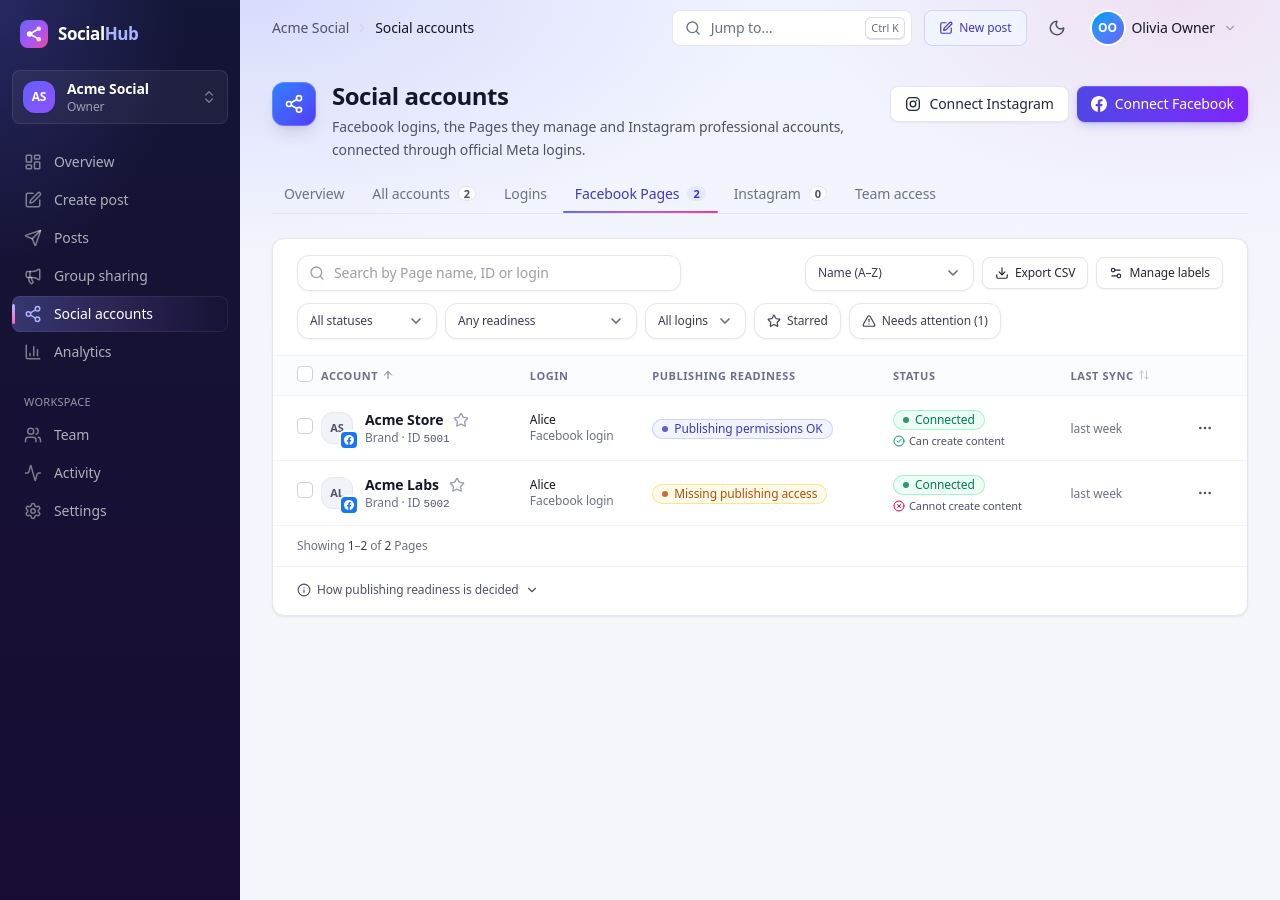
Facebook Pages tab › removes the selected Pages only after confirmation
The image size is (1280, 900).
Click the checkbox named "Select all accounts on this page" at x=305, y=374, box top-left (297, 366), bottom-right (313, 382)
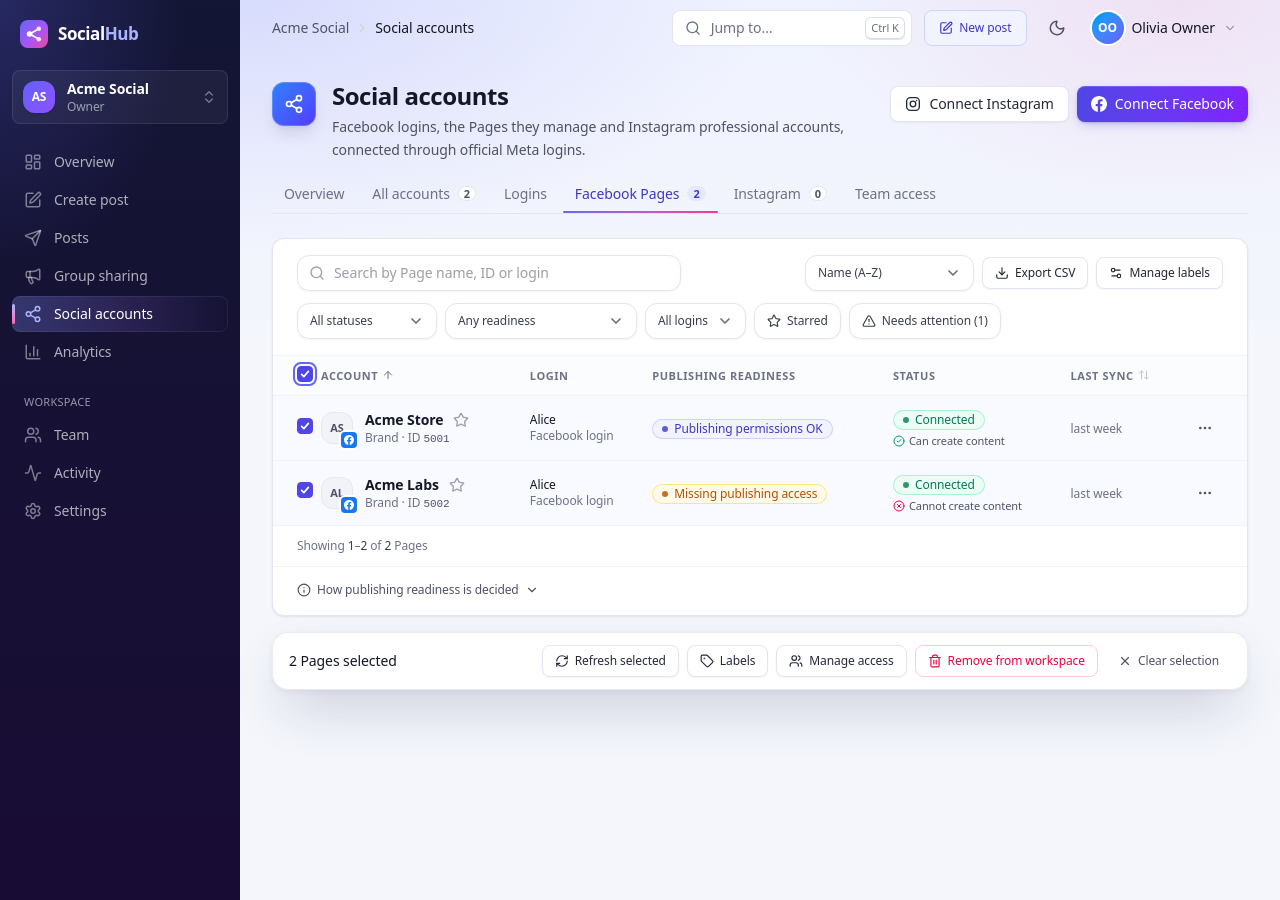
Click the button "Remove from workspace" at x=1006, y=661, box top-left (915, 645), bottom-right (1098, 677)
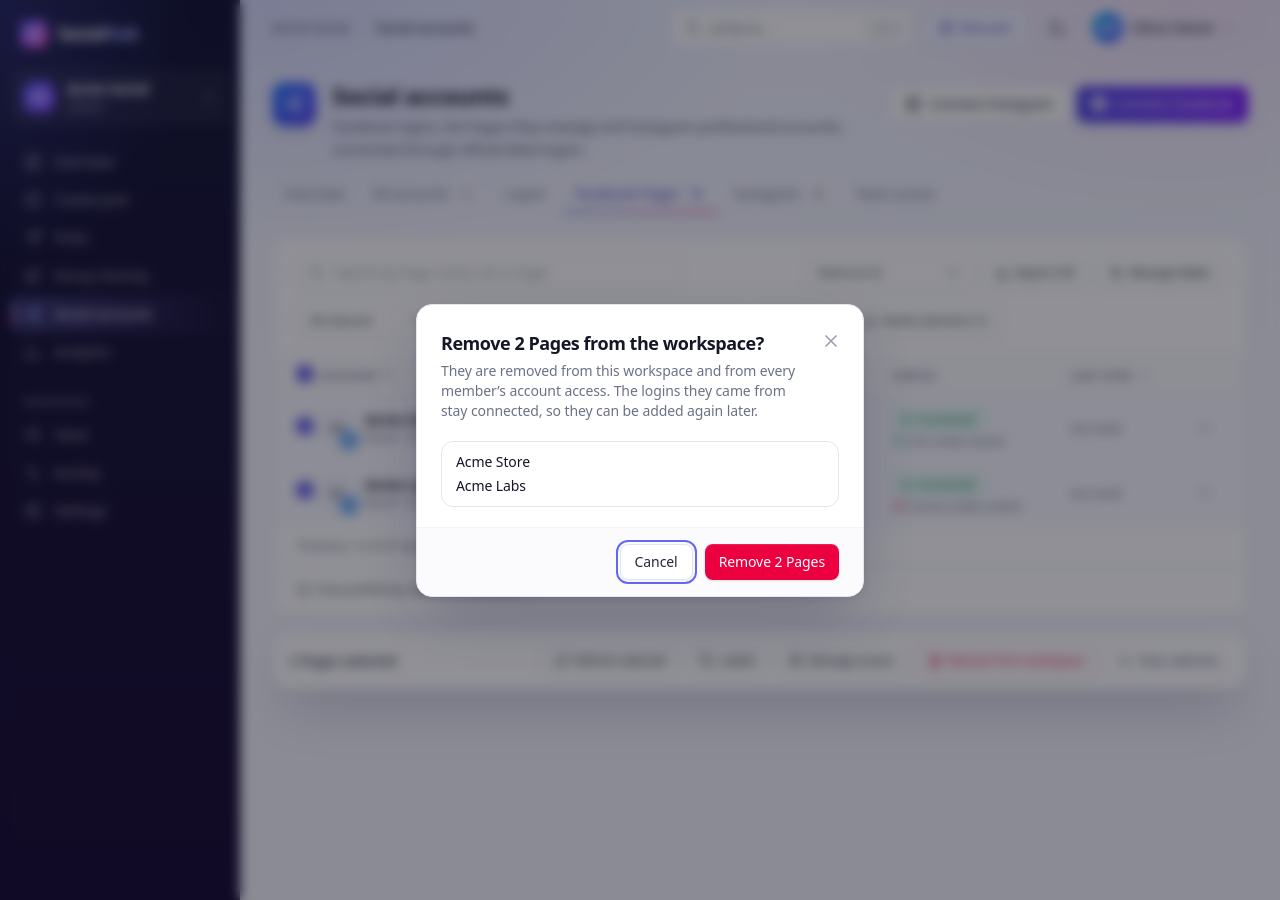
Check: the list item "Acme Store" is shown, box top-left (456, 452), bottom-right (530, 470)
Check: the list item "Acme Labs" is shown, box top-left (456, 476), bottom-right (526, 494)
Click the button "Cancel" at x=656, y=562, box top-left (620, 544), bottom-right (693, 580)
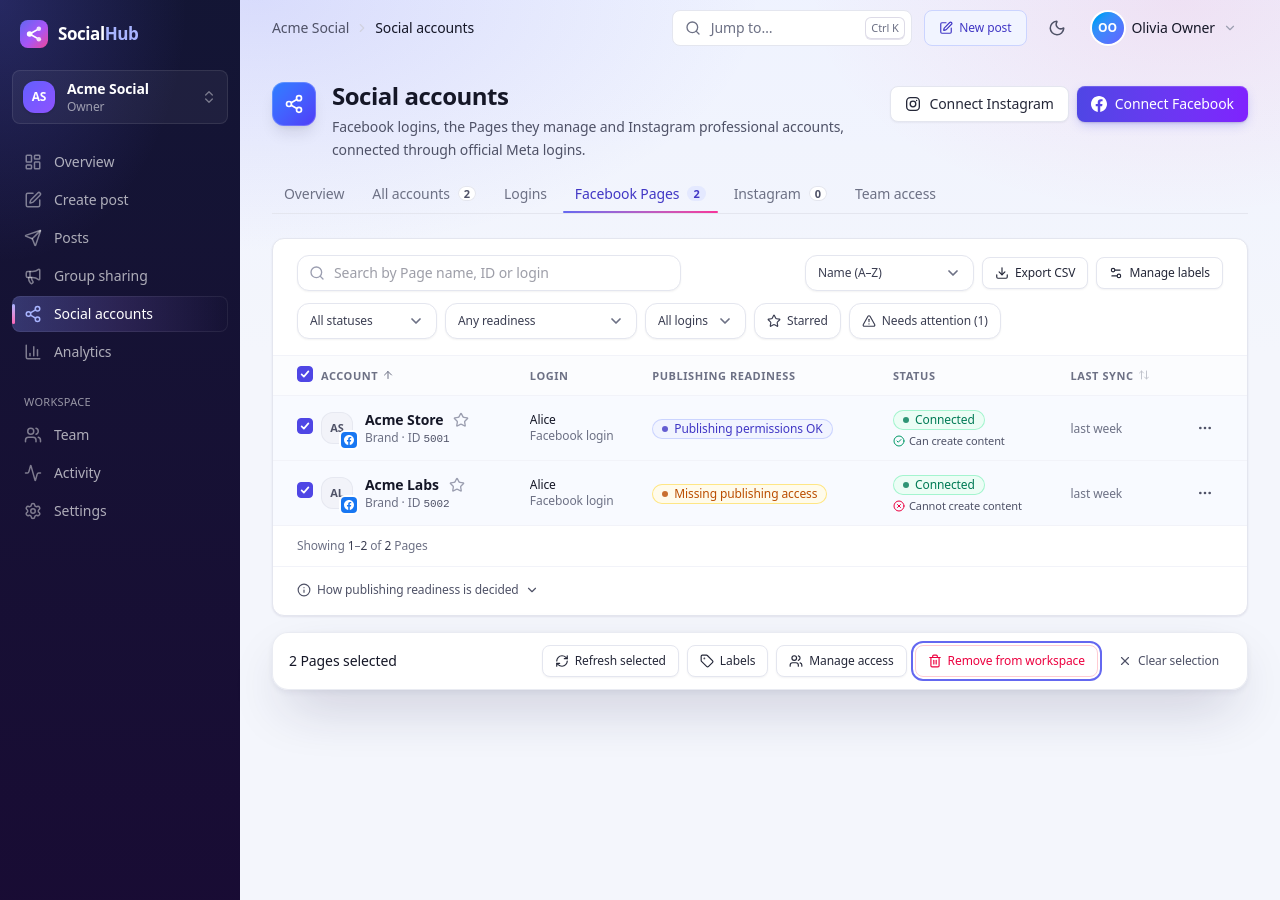
Check: the dialog is gone
Click the button "Remove from workspace" at x=1006, y=661, box top-left (915, 645), bottom-right (1098, 677)
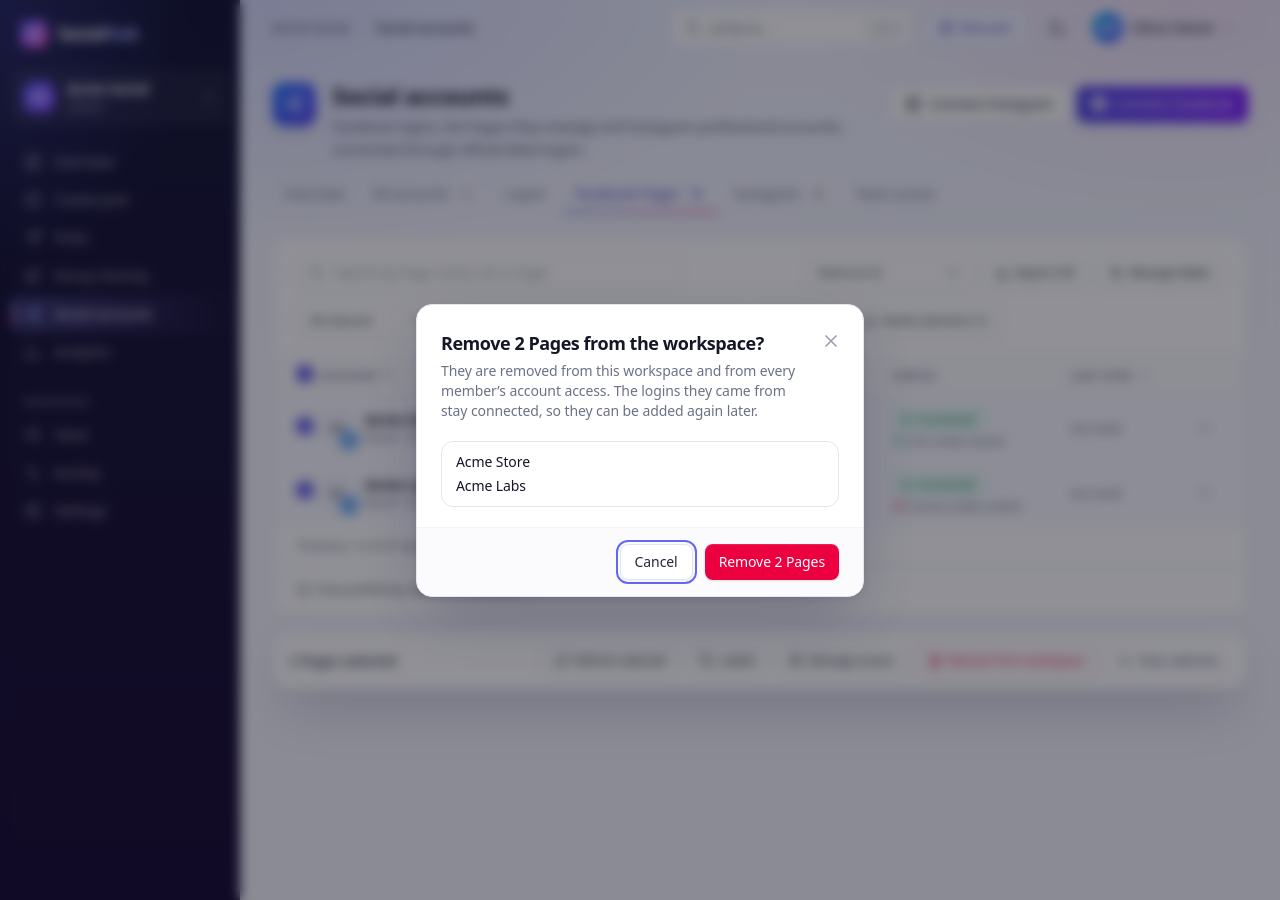
Click the button "Remove 2 Pages" at x=772, y=562, box top-left (705, 544), bottom-right (839, 580)
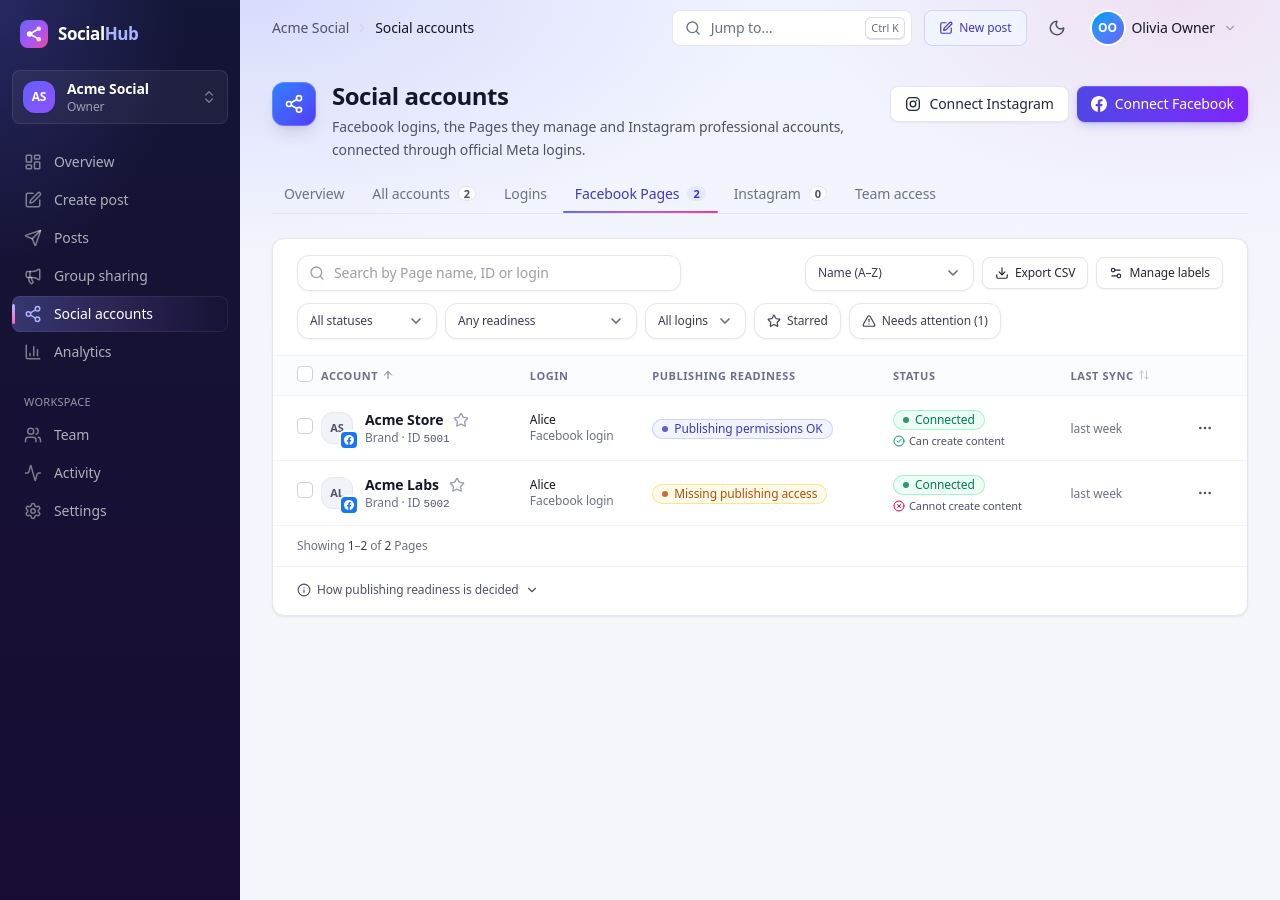
Check: the dialog is gone
